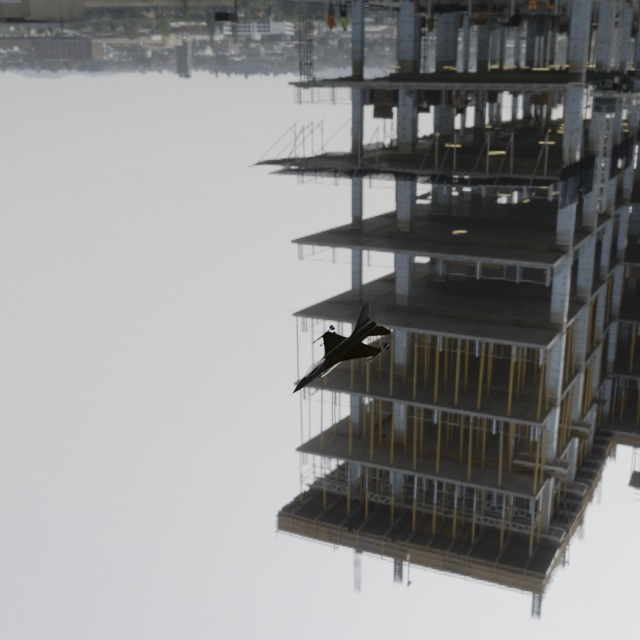model: (254, 292, 407, 414)
